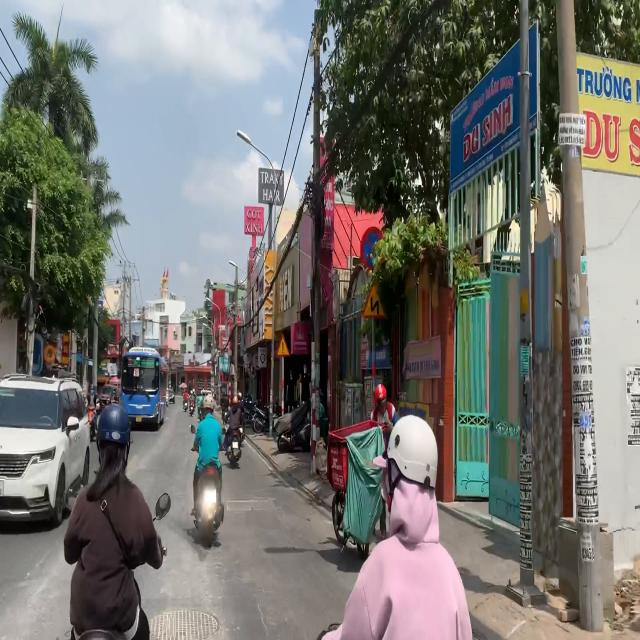Nguy hiem: (362, 283, 387, 319), (275, 333, 291, 358)
